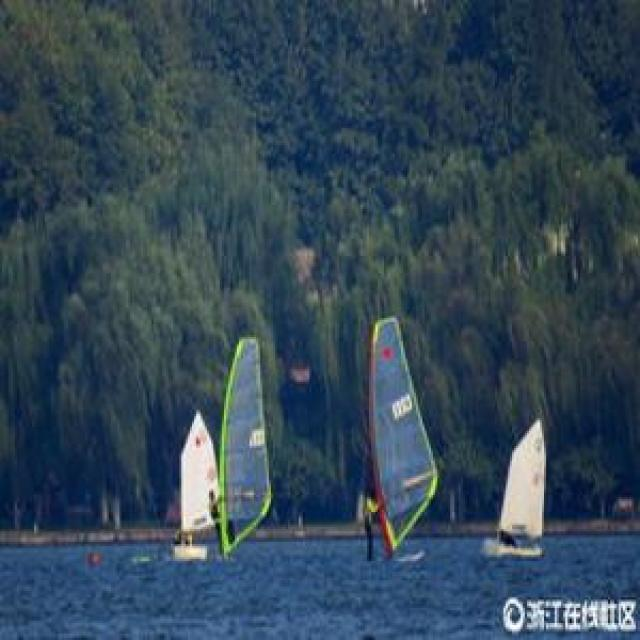sailboat: (348, 319, 450, 576), (183, 340, 265, 578), (472, 418, 570, 568)
